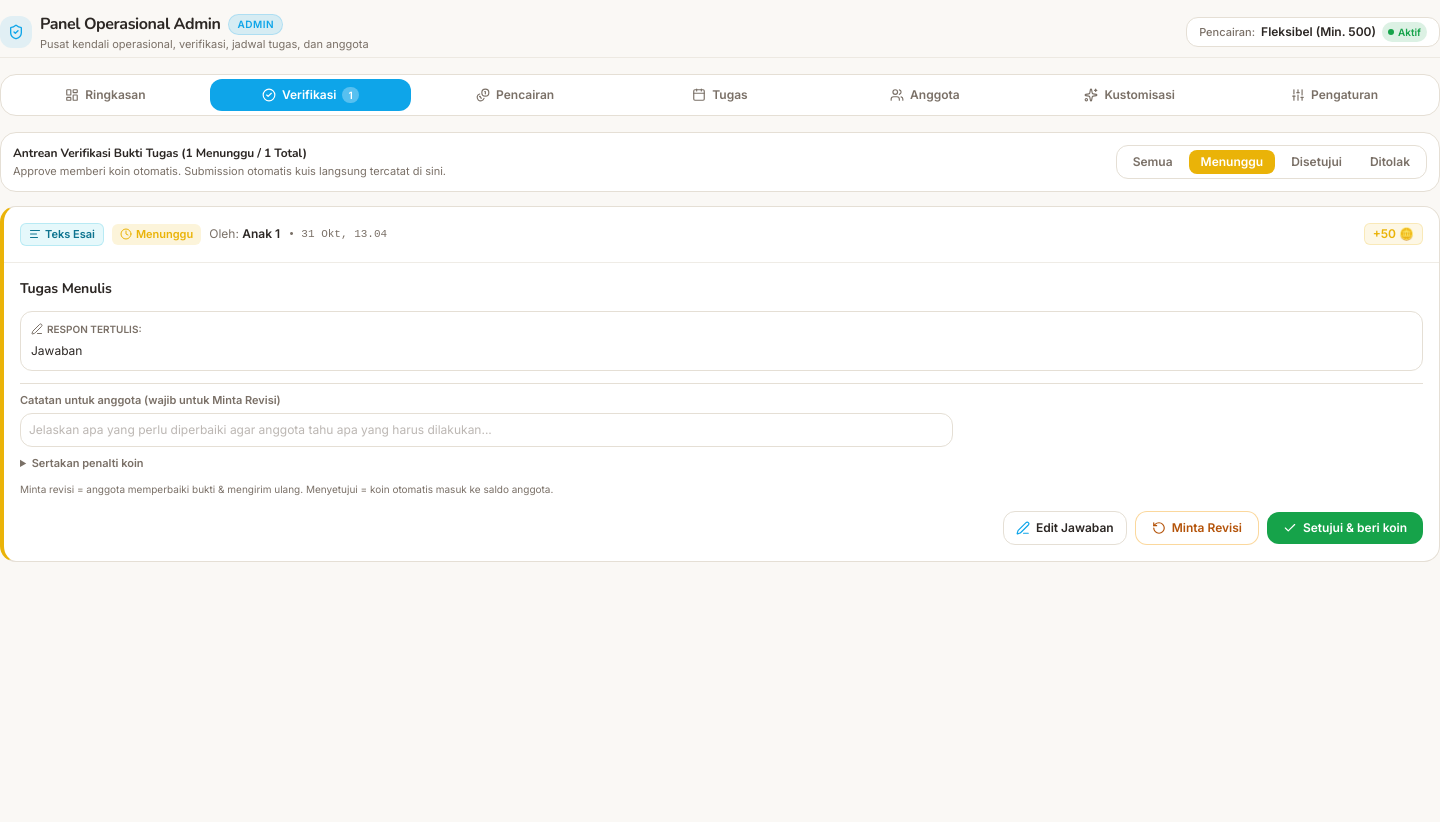
Test: AdminPage Component › synchronizes Verifikasi tab badge count and removes badge when queue becomes empty
Expected: the button with test id "admin-tab-submissions" shows "1", [210,78,411,110]
Note: Approve the submission using exact aria-label
Step 1. Click the button with aria-label "Setujui dan beri koin untuk Tugas Menulis" → (1345,528), box [1267,512,1423,544]
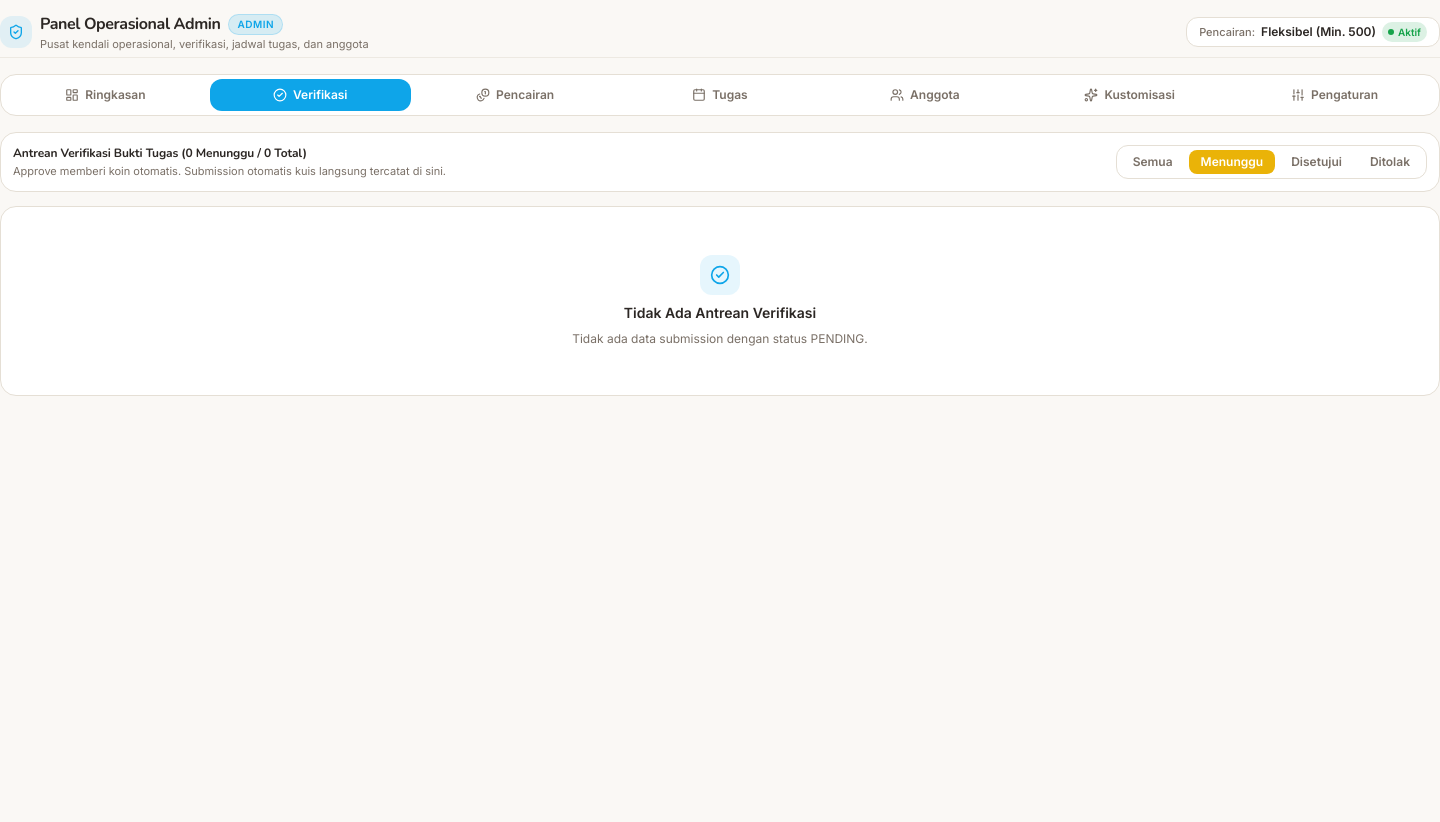
Now the button with test id "admin-tab-submissions" no longer shows "1", box [210,78,411,110]
Now the text "Tidak Ada Antrean Verifikasi" is shown, box [624,304,816,321]
